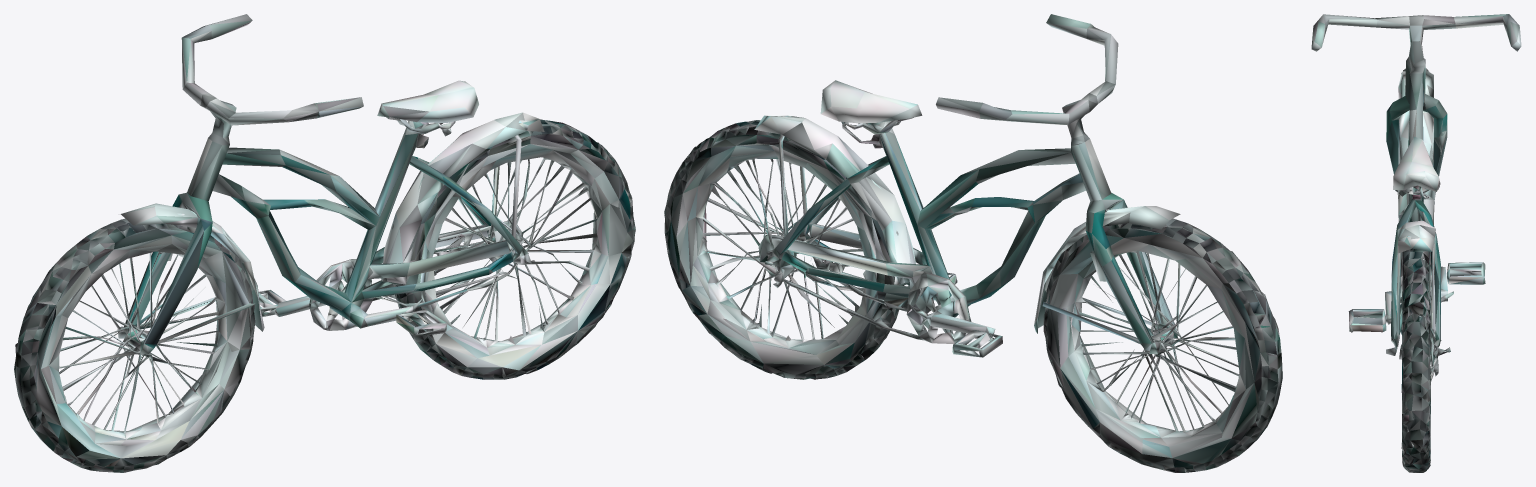
The model's file is bike2.glb.
3 renders of one model, left to right at view 1: azimuth 30°, elevation 25°; view 2: azimuth 150°, elevation 25°; view 3: azimuth 270°, elevation 25°, orthographic. The views are drawn at different scales.
Visible parts, largest first — view 1: LO.001; view 2: LO.001; view 3: LO.001.
Part boxes in pixels (left/top/right/bottom): LO.001: left=14, top=14, right=635, bottom=472; LO.001: left=664, top=14, right=1282, bottom=472; LO.001: left=1311, top=14, right=1521, bottom=472.
Bounding box in the file's own units: 1.9 × 1.1 × 0.6317.
Materials: 1 (1 with a texture image).
